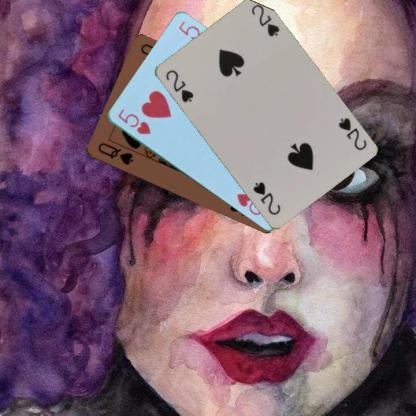2s: (162, 67, 195, 104), (335, 115, 368, 152)
5h: (114, 106, 152, 136)
Qs: (95, 140, 134, 166)
